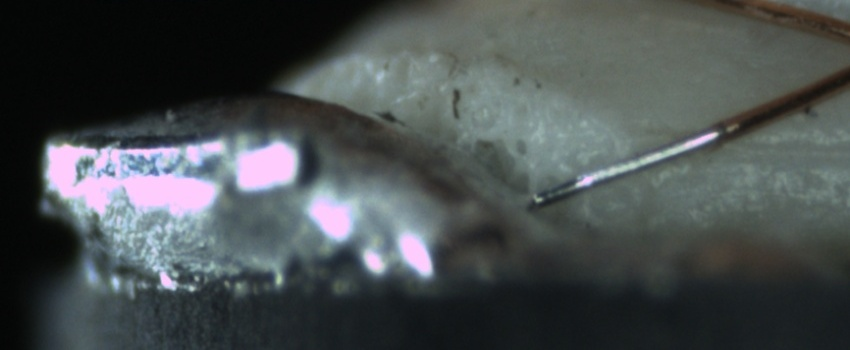DL: (625, 113, 850, 174)
TS: (528, 120, 722, 210)
